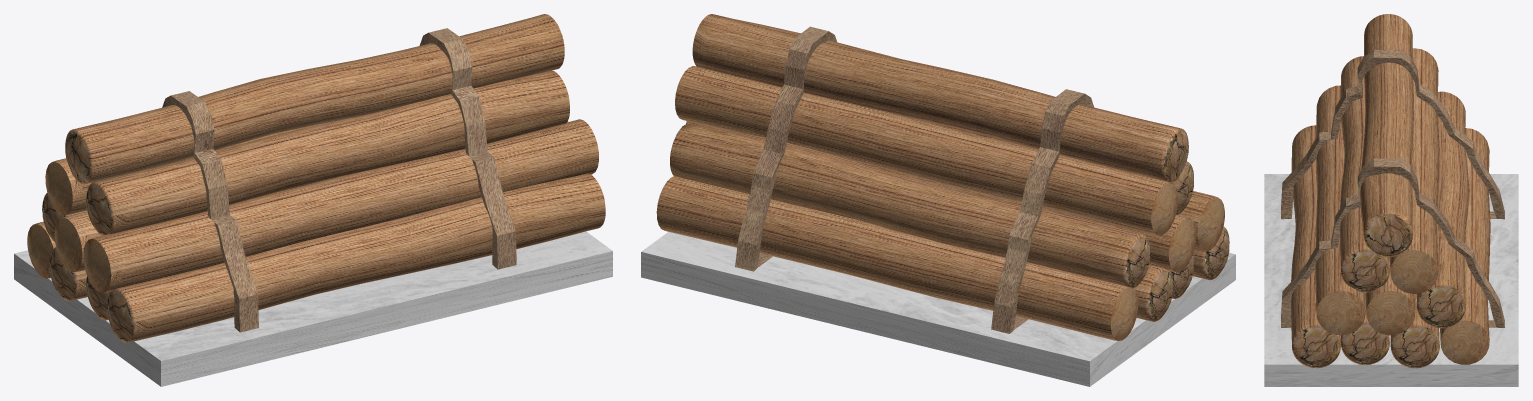
File: tree_block_set_2_change_colour.glb
3 renders of one model, left to right at view 1: azimuth 30°, elevation 25°; view 2: azimuth 150°, elevation 25°; view 3: azimuth 270°, elevation 25°, orthographic. The views are drawn at different scales.
Visible parts, largest first — view 1: pCube1, pCylinder6, pCylinder5, pCylinder10, pCylinder9, polySurface2, polySurface1, pCylinder11, pCylinder8, pCylinder2, pCylinder1, pCylinder7 (+1 smaller); view 2: pCube1, pCylinder11, pCylinder10, pCylinder3, pCylinder1, polySurface2, polySurface1, pCylinder8, pCylinder6, pCylinder2, pCylinder5, pCylinder9 (+1 smaller); view 3: pCube1, pCylinder10, pCylinder3, pCylinder6, pCylinder11, pCylinder5, pCylinder1, pCylinder9, polySurface2, polySurface1, pCylinder8, pCylinder2 (+1 smaller).
Boxes of the visible parts, <box> form: pCube1: <box>14,231,612,386</box>; pCylinder6: <box>83,119,598,292</box>; pCylinder5: <box>107,173,605,342</box>; pCylinder10: <box>65,14,564,183</box>; pCylinder9: <box>86,70,569,235</box>; polySurface2: <box>162,91,258,332</box>; polySurface1: <box>419,28,516,269</box>; pCylinder11: <box>45,121,333,215</box>; pCylinder8: <box>54,121,568,271</box>; pCylinder2: <box>49,247,87,301</box>; pCylinder1: <box>27,221,55,278</box>; pCylinder7: <box>86,276,109,320</box>; pCube1: <box>641,232,1235,386</box>; pCylinder11: <box>675,66,1178,235</box>; pCylinder10: <box>692,14,1188,182</box>; pCylinder3: <box>670,123,1150,288</box>; pCylinder1: <box>656,176,1138,340</box>; polySurface2: <box>991,89,1094,333</box>; polySurface1: <box>735,26,836,271</box>; pCylinder8: <box>686,121,1196,272</box>; pCylinder6: <box>1178,191,1224,251</box>; pCylinder2: <box>1133,264,1173,321</box>; pCylinder5: <box>1192,227,1229,280</box>; pCylinder9: <box>921,120,1193,214</box>; pCube1: <box>1264,174,1518,386</box>; pCylinder10: <box>1360,14,1414,256</box>; pCylinder3: <box>1416,91,1469,328</box>; pCylinder6: <box>1315,85,1365,335</box>; pCylinder11: <box>1389,48,1439,293</box>; pCylinder5: <box>1291,125,1340,368</box>; pCylinder1: <box>1440,128,1490,364</box>; pCylinder9: <box>1339,56,1389,292</box>; polySurface2: <box>1281,49,1504,219</box>; polySurface1: <box>1281,158,1504,327</box>; pCylinder8: <box>1365,257,1415,335</box>; pCylinder2: <box>1390,294,1439,368</box>.
Bounding box in the file's own units: 20.39 × 8.24 × 10.34.
Materials: 6 (6 with a texture image).
